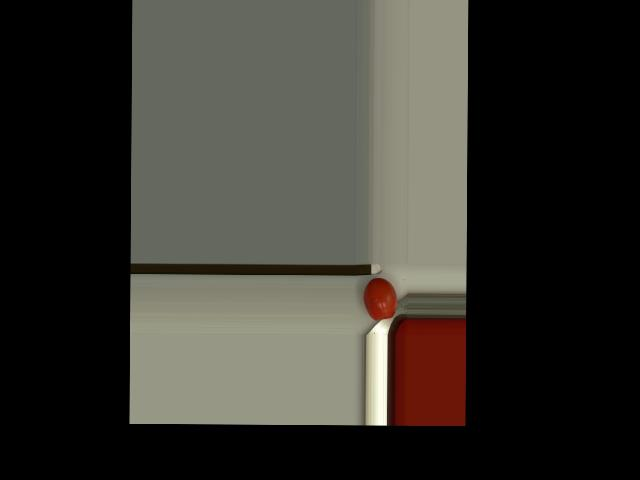tomato: (363, 277, 397, 320)
